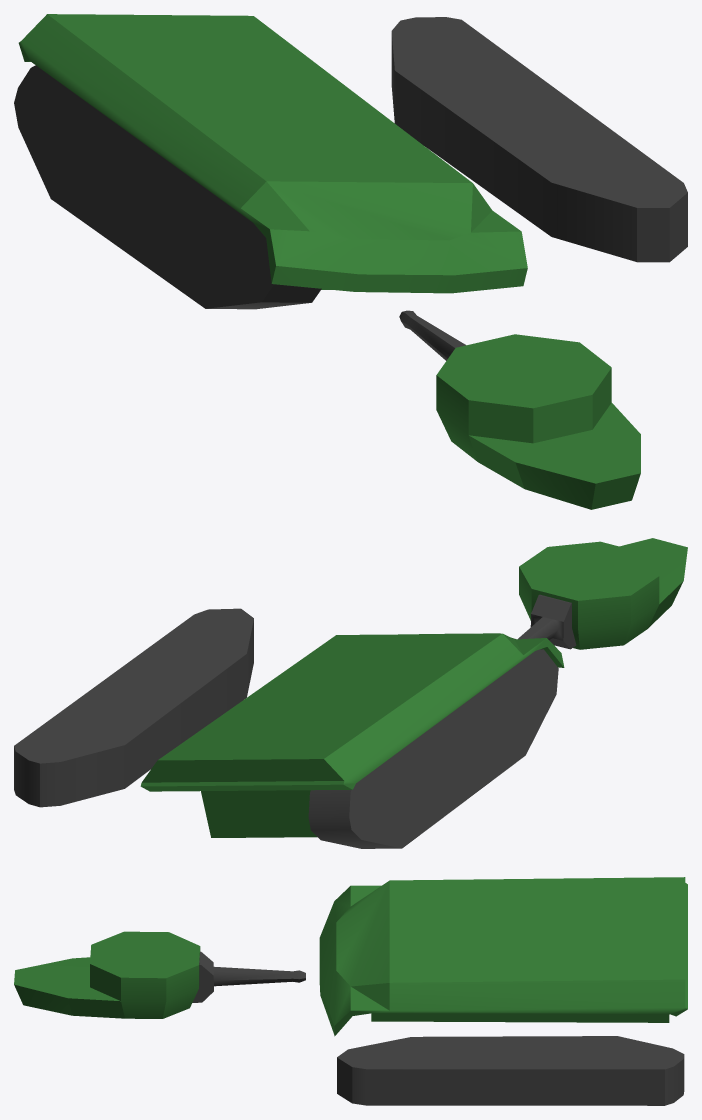
File: M18HellcatBroken.fbx
3 renders of one model, top to bottom at view 1: azimuth 30°, elevation 25°; view 2: azimuth 150°, elevation 25°; view 3: azimuth 270°, elevation 25°, orthographic. The views are drawn at different scales.
Parts seen in each view (by area): view 1: Chassis, TreadL, TreadR, Top, Cannon; view 2: Chassis, TreadL, TreadR, Top, Cannon; view 3: Chassis, TreadL, Top, Cannon.
Part boxes in pixels (left/top/right/bottom): Chassis: left=18, top=14, right=527, bottom=293; TreadL: left=391, top=17, right=687, bottom=262; TreadR: left=14, top=65, right=321, bottom=309; Top: left=436, top=334, right=640, bottom=509; Cannon: left=399, top=310, right=465, bottom=360; Chassis: left=140, top=633, right=564, bottom=837; TreadL: left=14, top=608, right=253, bottom=807; TreadR: left=308, top=649, right=558, bottom=848; Top: left=519, top=538, right=687, bottom=649; Cannon: left=518, top=594, right=576, bottom=649; Chassis: left=319, top=877, right=687, bottom=1036; TreadL: left=337, top=1036, right=684, bottom=1105; Top: left=14, top=931, right=200, bottom=1018; Cannon: left=192, top=951, right=305, bottom=1002.
Size of the model in its own units: 4.43 by 1.42 by 8.65.
